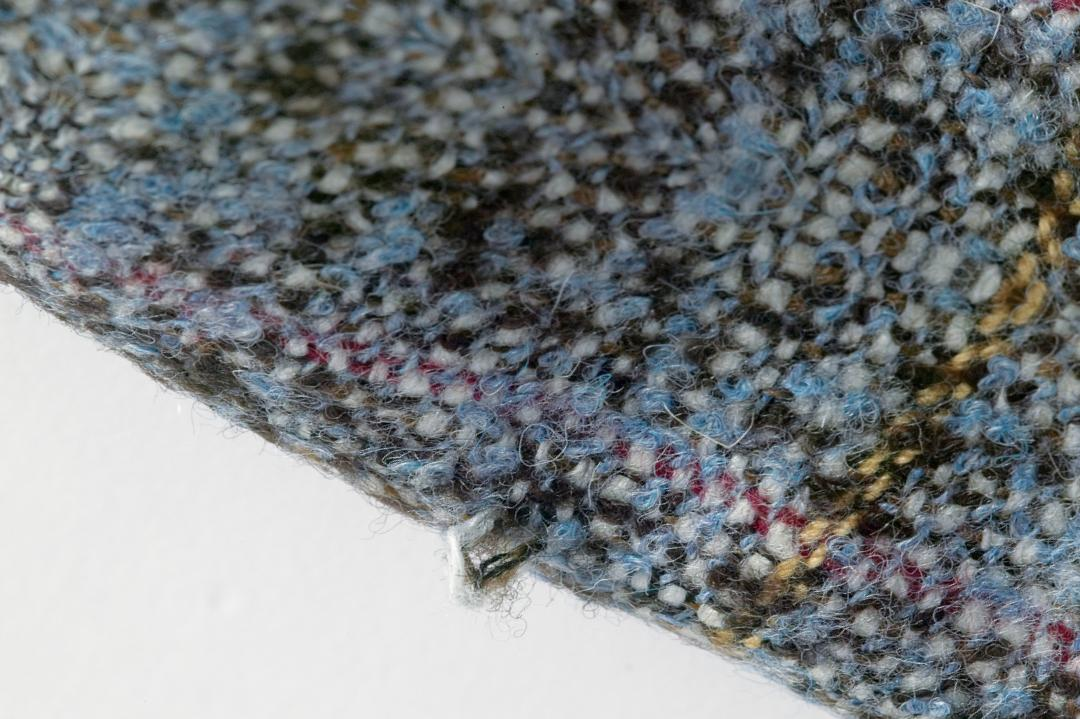snag: (432, 501, 561, 621)
